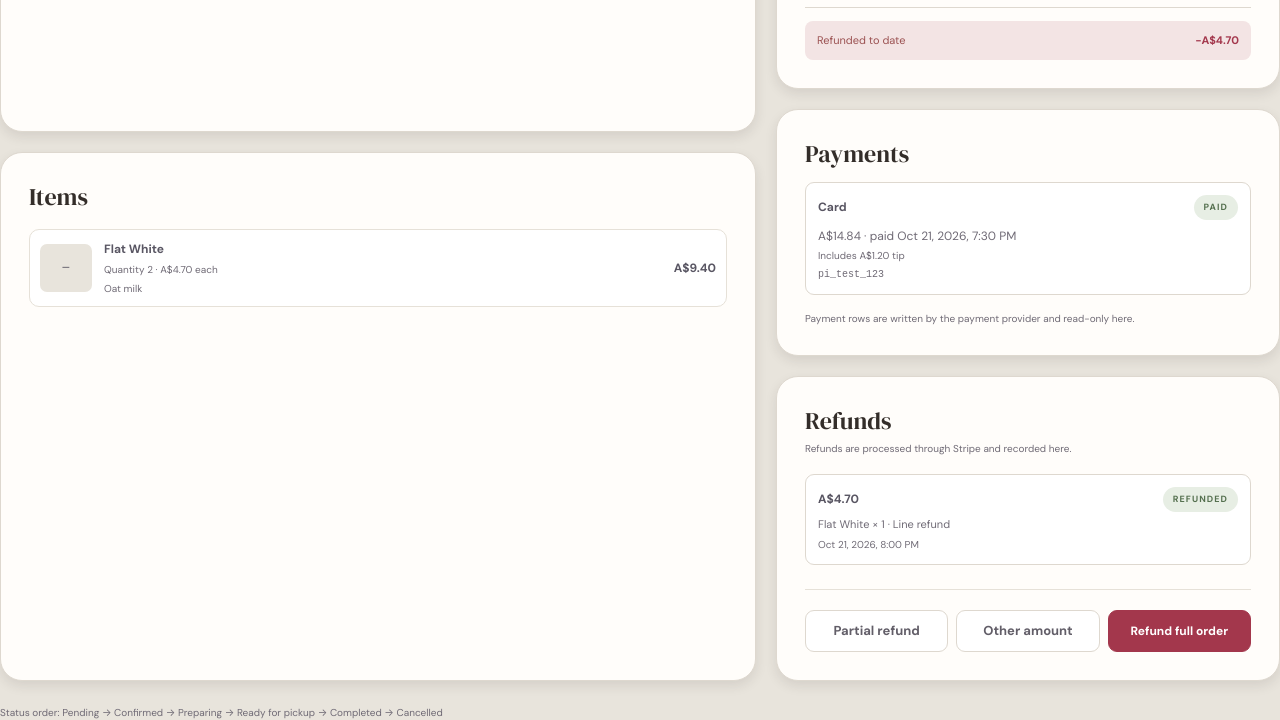
Scenario: OrderDetailPage › caps the partial stepper at the remaining line quantity
Later steps or results of the test are not shown.
(page scrolled)
Click the button "Partial refund": x=877, y=630 [805,610,948,652]
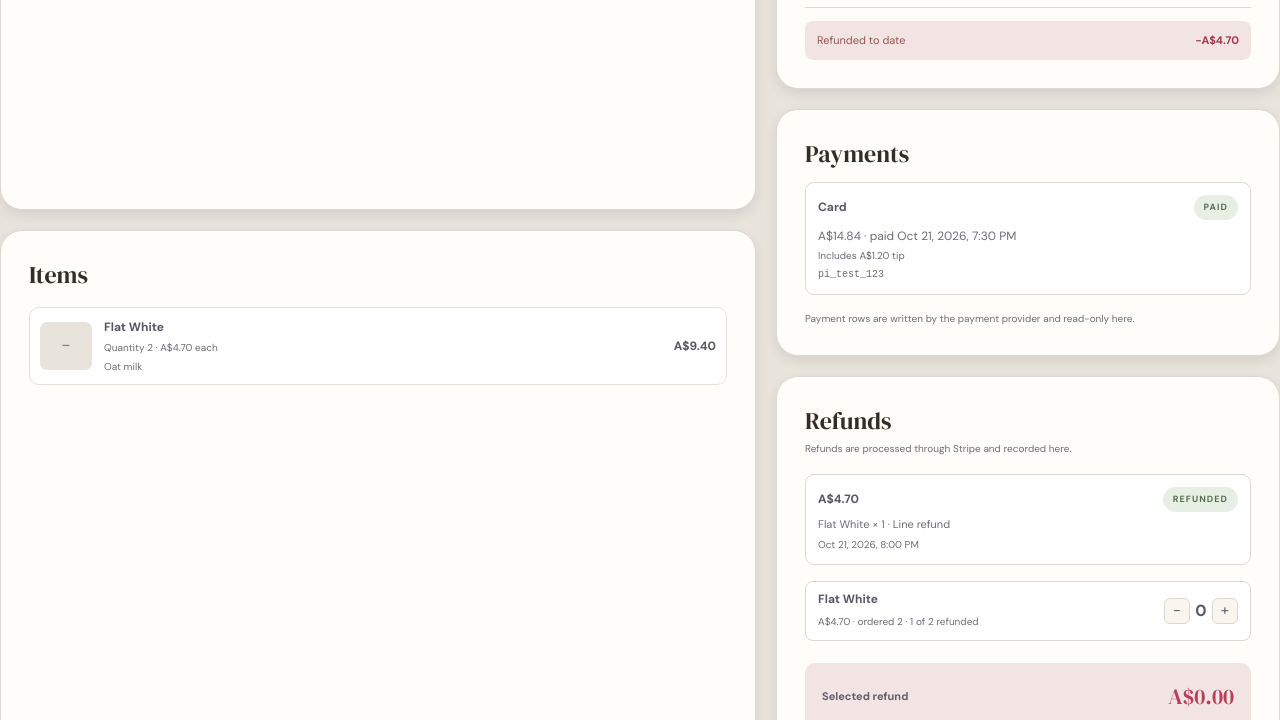
Expected: the text "A$4.70 · ordered 2 · 1 of 2 refunded" is shown, [818,614,979,628]
